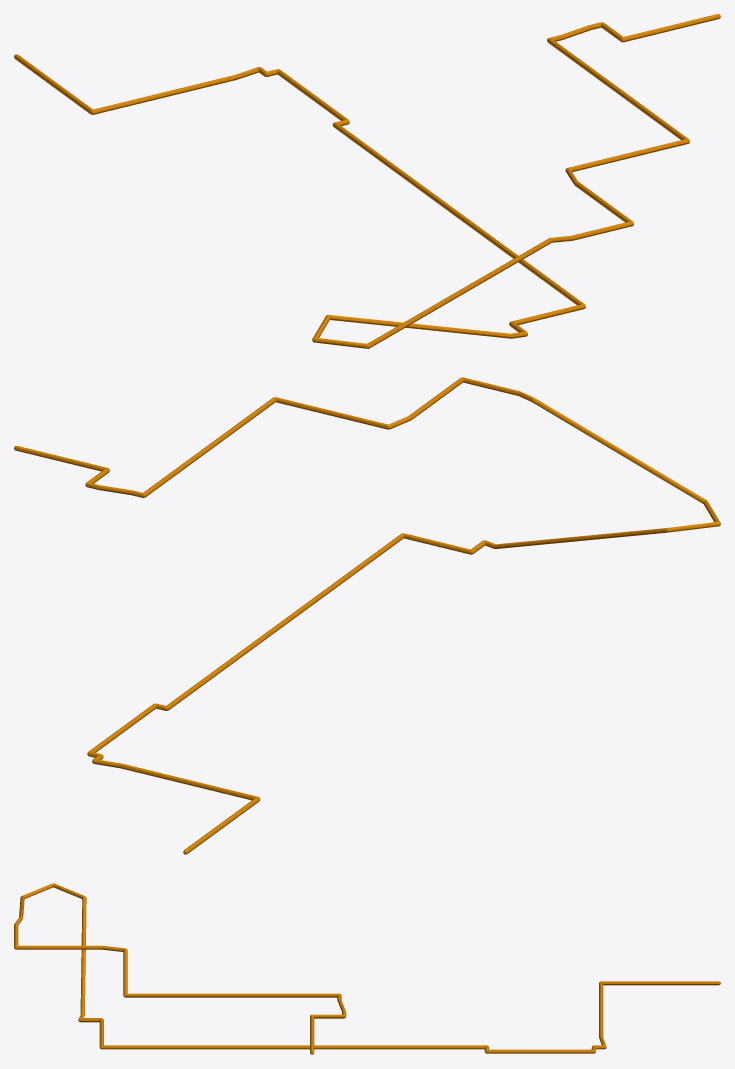
3 views of the same model, one above another, from view 1: azimuth 30°, elevation 25°; view 2: azimuth 150°, elevation 25°; view 3: azimuth 270°, elevation 25° (orthographic). The views are drawn at different scales.
Bounding box in the file's own units: 2408 × 520 × 3304.
